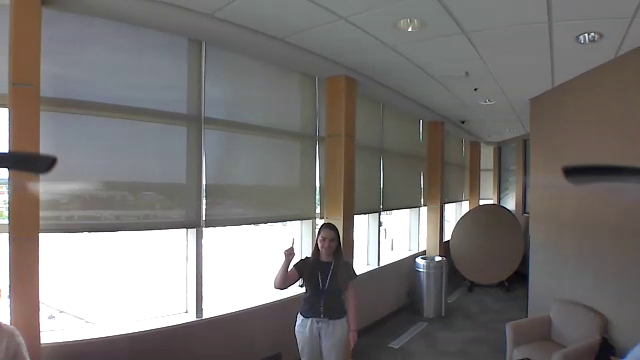up: (279, 234, 300, 266)
